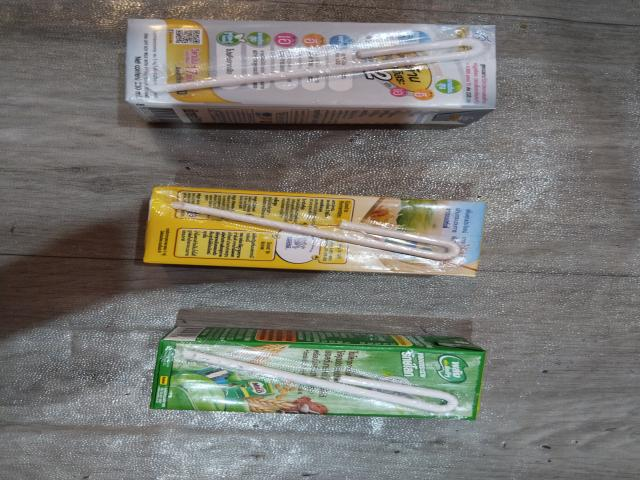drink_box: (109, 9, 507, 128), (143, 180, 498, 277), (151, 324, 488, 419)
